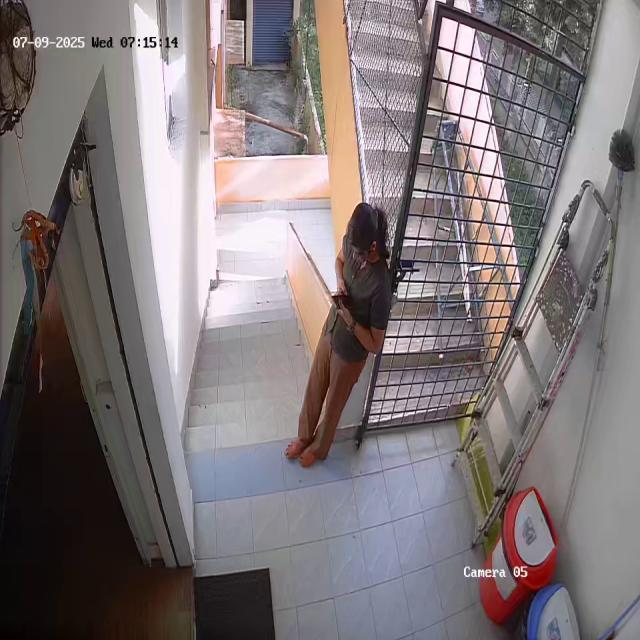person: (292, 202, 386, 466)
